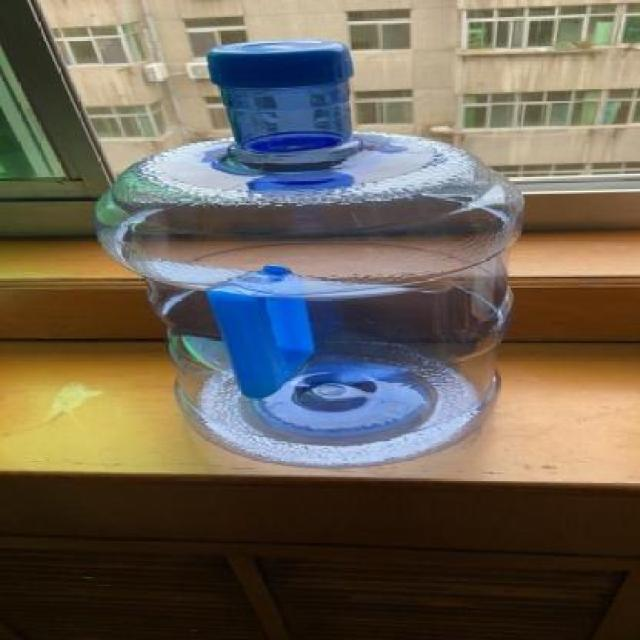coolerbottle: (91, 37, 532, 474)
